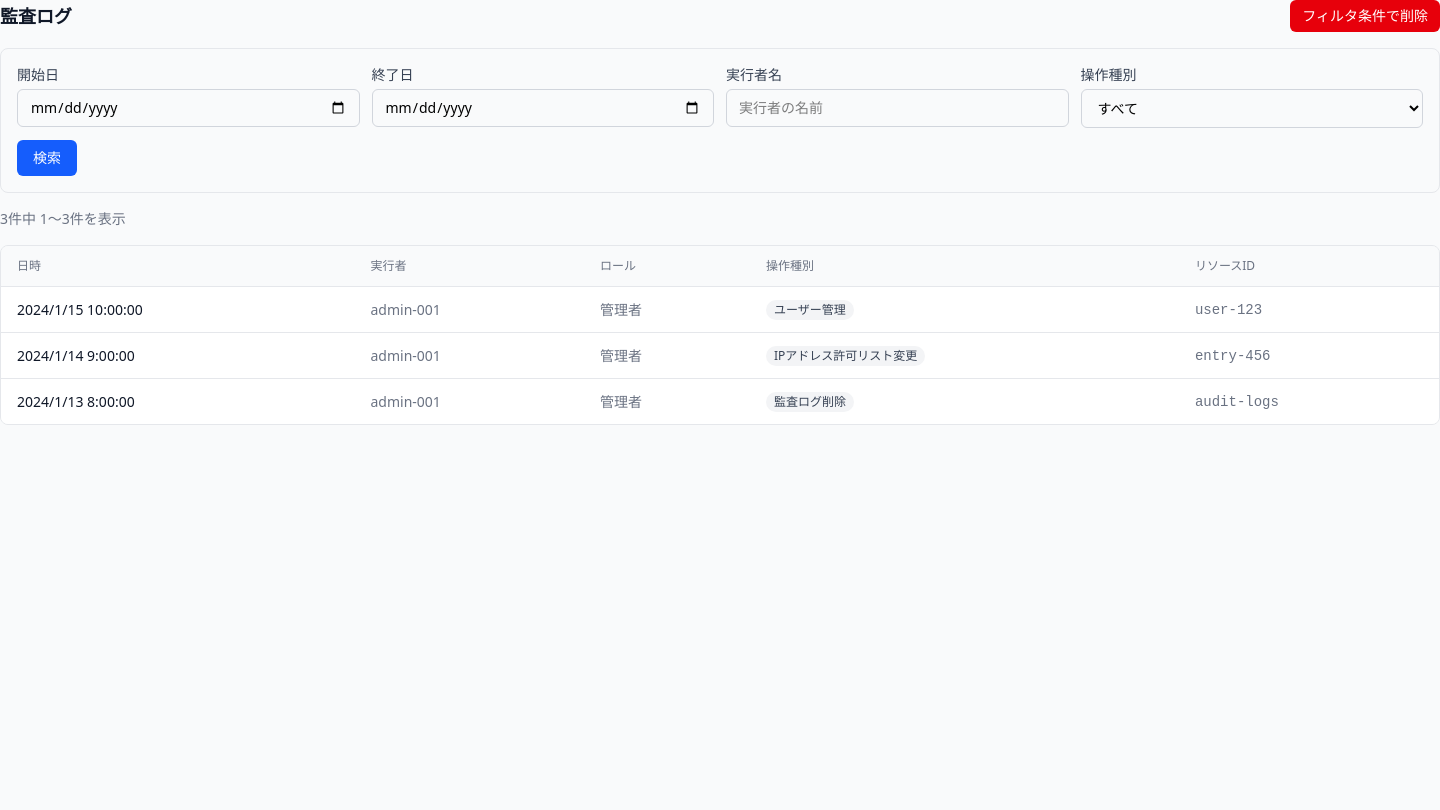
Test: AuditLogViewer › 削除確認ダイアログ (Requirement 14.13) › キャンセルボタンクリックでダイアログを閉じ、削除を実行しない
Click the button "フィルタ条件で削除" at [1365, 16], box [1290,0,1439,32]
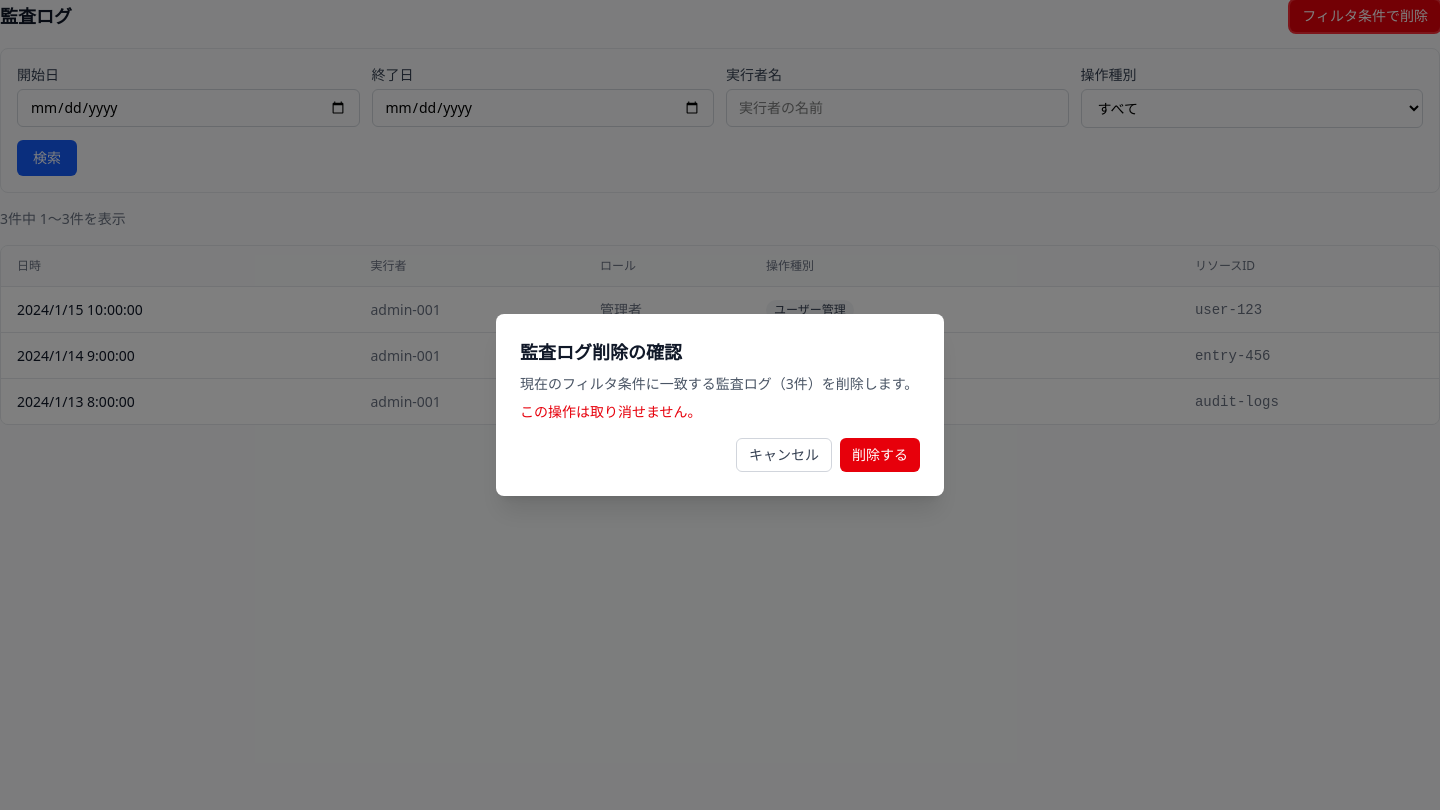
Click the button "キャンセル" at [784, 455], box [736,438,832,472]
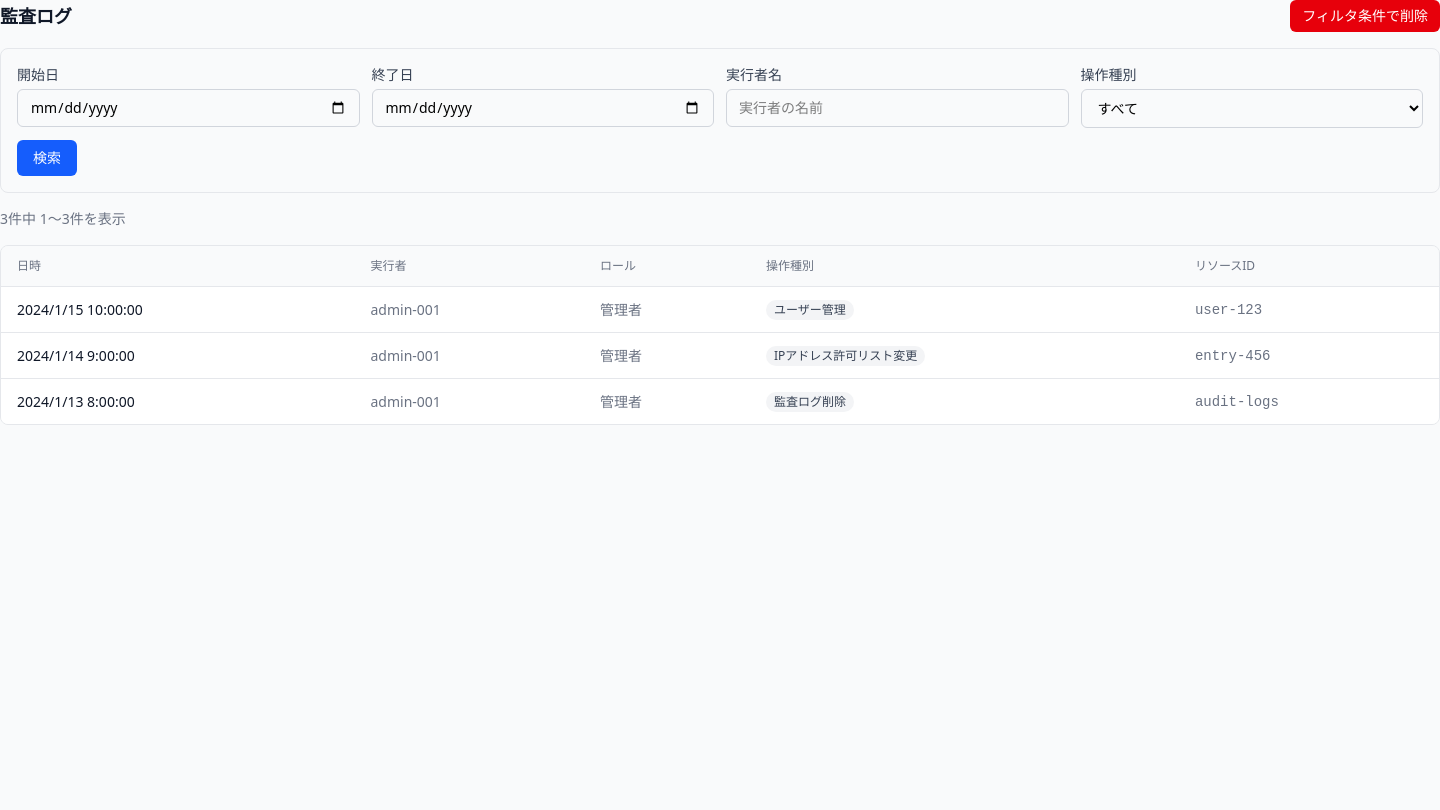
Now the dialog is gone
